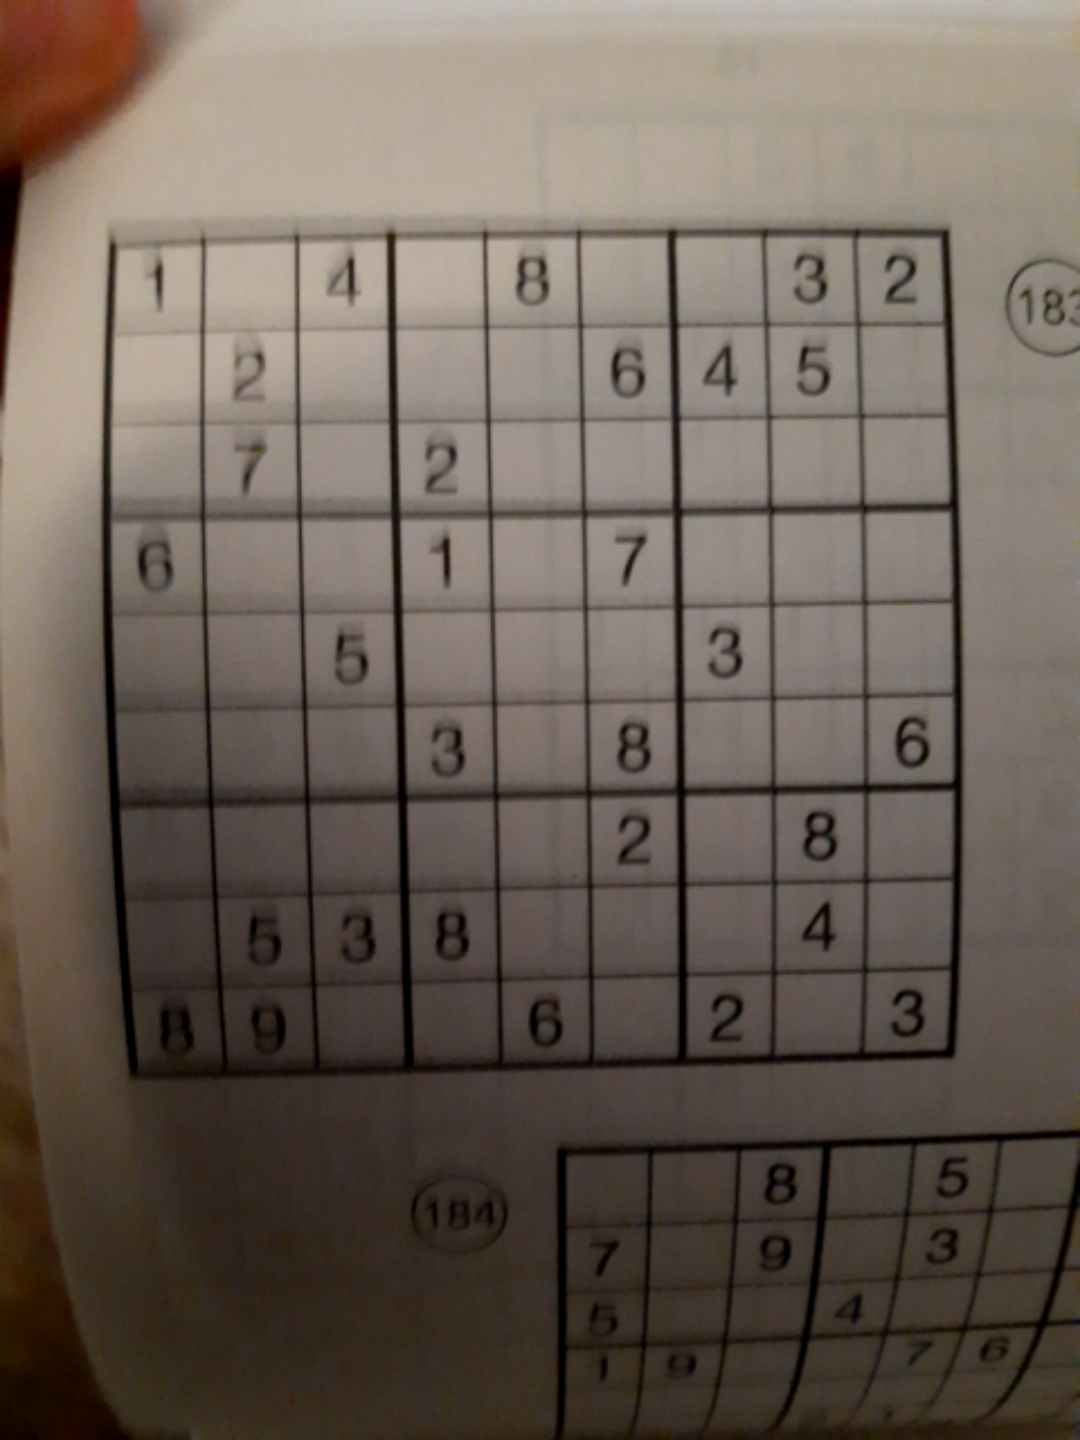sudoku: (101, 223, 966, 1077)
